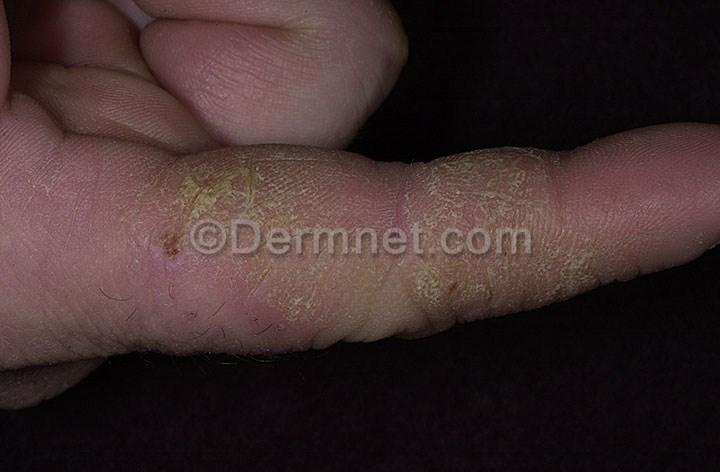Eczema: (149, 138, 323, 330), (406, 169, 569, 330)
